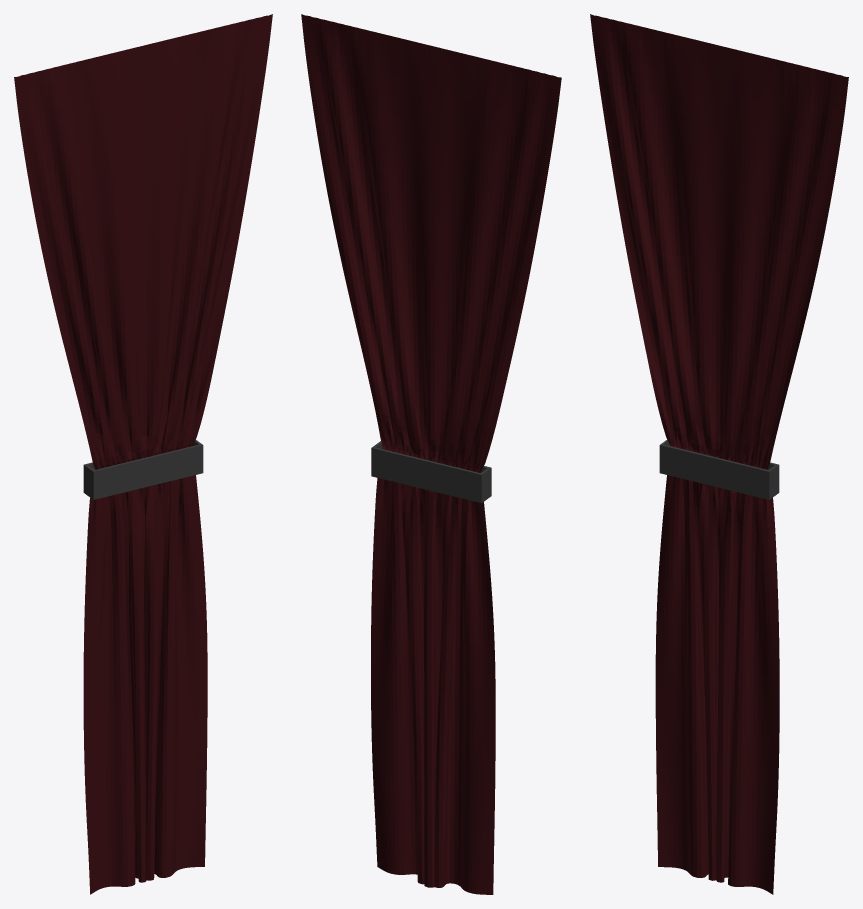
File: Dikey_Perde.fbx
3 renders of one model, left to right at view 1: azimuth 30°, elevation 25°; view 2: azimuth 150°, elevation 25°; view 3: azimuth 330°, elevation 25°, orthographic.
Visible parts, largest first — view 1: Plane.005; view 2: Plane.005; view 3: Plane.005.
Part boxes in pixels (box(x1,y1,x2,y2)): Plane.005: box(14, 14, 272, 894); Plane.005: box(301, 14, 561, 894); Plane.005: box(590, 14, 848, 894).
Size of the model in its own units: 715 by 2196 by 50.66.
